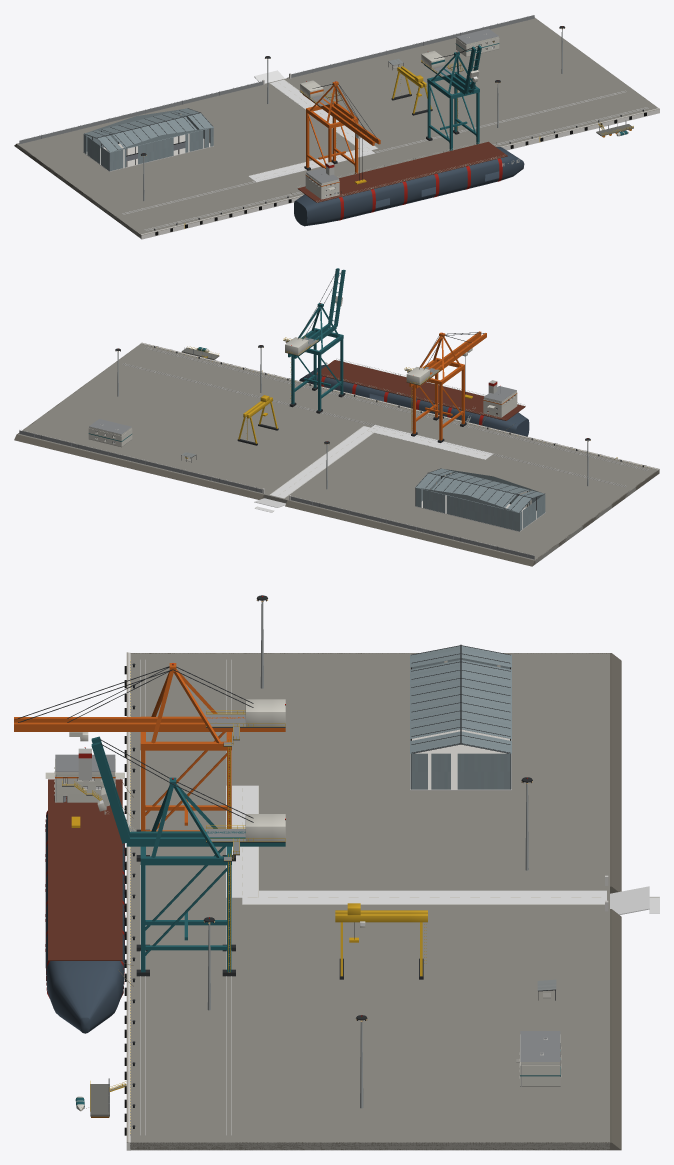
The model's file is cargo-port.glb.
3 renders of one model, top to bottom at view 1: azimuth 30°, elevation 25°; view 2: azimuth 150°, elevation 25°; view 3: azimuth 270°, elevation 25°, orthographic. The views are drawn at different scales.
Parts seen in each view (by area): view 1: C0_0_lod0, C0_-2_lod0, C0_-1_lod0, C-1_-2_lod0, C-2_0_lod0, C-1_-1_lod0, C-3_0_lod0, C1_1_lod0, C-2_1_lod0; view 2: C0_0_lod0, C0_-1_lod0, C-1_-2_lod0, C-2_0_lod0, C-1_-1_lod0, C1_1_lod0, C-2_1_lod0, C0_-2_lod0, C-3_0_lod0; view 3: C0_0_lod0, C-1_-2_lod0, C0_-1_lod0, C-2_0_lod0, C-1_-1_lod0, C0_-2_lod0, C1_1_lod0, C-3_0_lod0, C-2_1_lod0, C2_0_lod0, C0_1_lod0, C2_1_lod0 (+1 smaller).
Part boxes in pixels (bbox=[...]): C0_0_lod0: bbox=[17, 18, 658, 238]; C0_-2_lod0: bbox=[294, 45, 524, 226]; C0_-1_lod0: bbox=[122, 46, 659, 239]; C-1_-2_lod0: bbox=[297, 84, 507, 202]; C-2_0_lod0: bbox=[83, 108, 213, 171]; C-1_-1_lod0: bbox=[248, 80, 483, 187]; C-3_0_lod0: bbox=[17, 126, 140, 236]; C1_1_lod0: bbox=[287, 15, 534, 78]; C-2_1_lod0: bbox=[14, 81, 262, 147]; C0_0_lod0: bbox=[18, 343, 658, 563]; C0_-1_lod0: bbox=[122, 269, 659, 487]; C-1_-2_lod0: bbox=[316, 331, 525, 420]; C-2_0_lod0: bbox=[415, 468, 545, 531]; C-1_-1_lod0: bbox=[323, 332, 503, 459]; C1_1_lod0: bbox=[14, 419, 264, 499]; C-2_1_lod0: bbox=[285, 496, 535, 566]; C0_-2_lod0: bbox=[299, 268, 529, 436]; C-3_0_lod0: bbox=[491, 470, 658, 562]; C0_0_lod0: bbox=[130, 653, 609, 1150]; C-1_-2_lod0: bbox=[14, 666, 172, 960]; C0_-1_lod0: bbox=[98, 652, 317, 1150]; C-2_0_lod0: bbox=[410, 644, 511, 790]; C-1_-1_lod0: bbox=[67, 663, 285, 897]; C0_-2_lod0: bbox=[45, 736, 130, 1033]; C1_1_lod0: bbox=[520, 909, 621, 1150]; C-3_0_lod0: bbox=[130, 645, 609, 682]; C-2_1_lod0: bbox=[610, 653, 621, 893]; C2_0_lod0: bbox=[130, 1015, 609, 1150]; C0_1_lod0: bbox=[551, 886, 659, 914]; C2_1_lod0: bbox=[520, 1052, 561, 1085].
Size of what is drawn, in the model's own units: 350 by 85.8 by 195.
